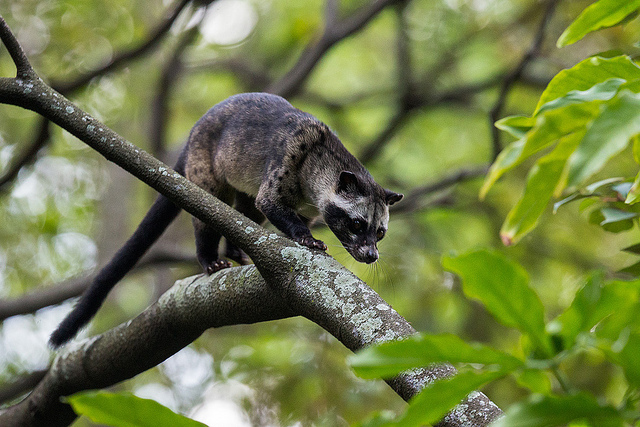Civet: (147, 84, 409, 277)
